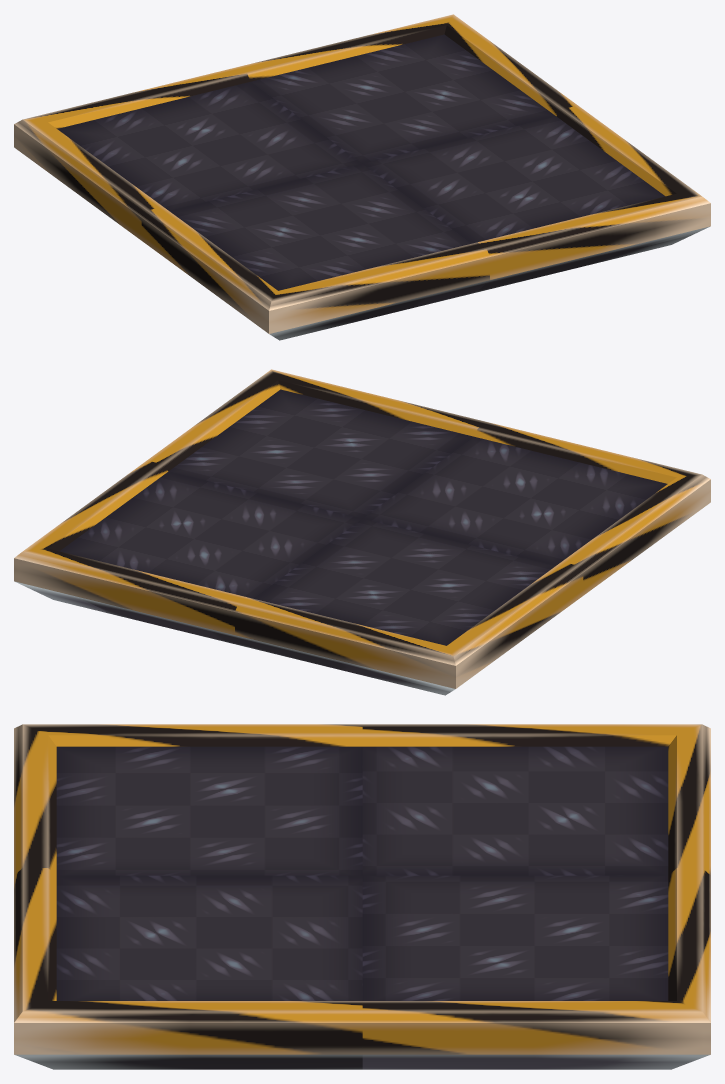
File: SquarePLataform.fbx
3 views of the same model, one above another, from view 1: azimuth 30°, elevation 25°; view 2: azimuth 150°, elevation 25°; view 3: azimuth 270°, elevation 25° (orthographic). The views are drawn at different scales.
Parts seen in each view (by area): view 1: SquarePLataform; view 2: SquarePLataform; view 3: SquarePLataform.
Part boxes in pixels (<box>): SquarePLataform: <box>14,14,710,340</box>; SquarePLataform: <box>14,369,710,695</box>; SquarePLataform: <box>14,724,710,1069</box>.
Bounding box in the file's own units: 200 × 33.23 × 200.
